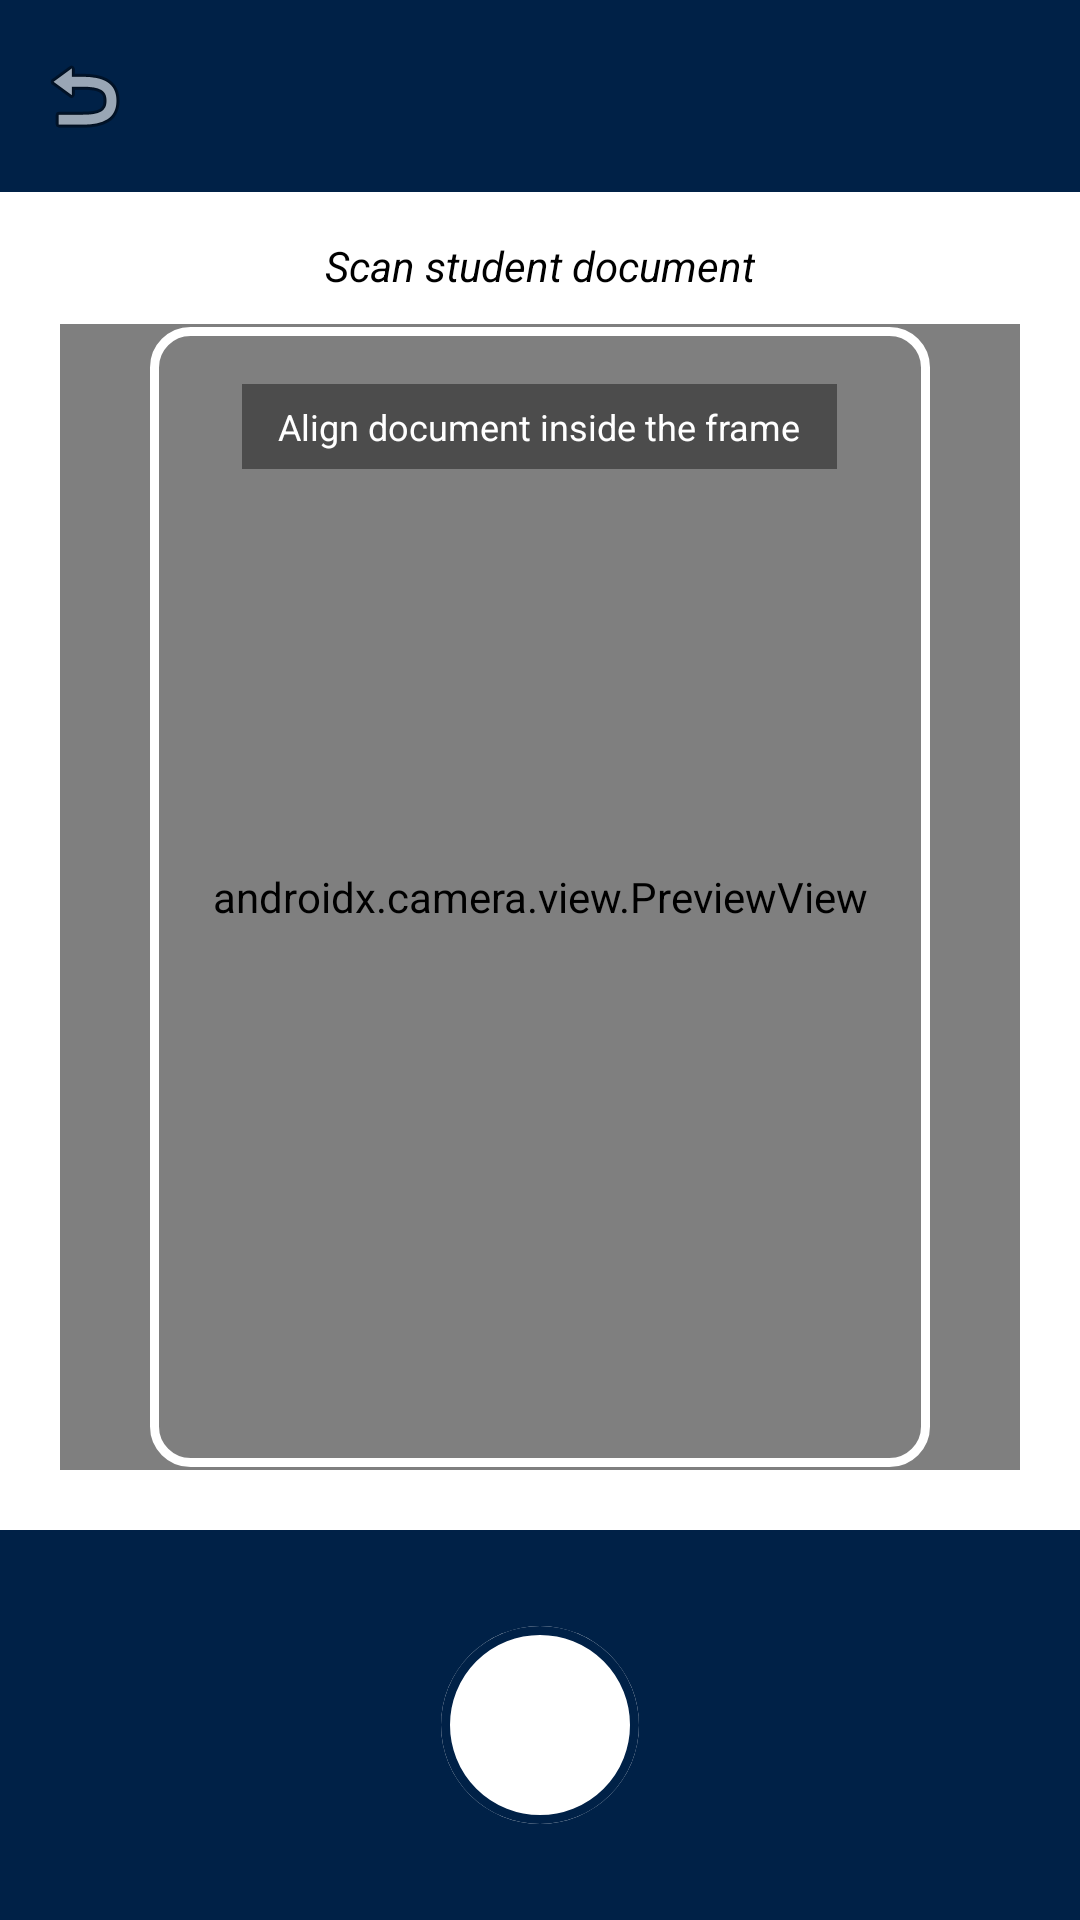

Screen size 1080 x 1920. Icon name, then its center in pixels as (x=x, y=y):
Take Photo: (x=540, y=1725)
